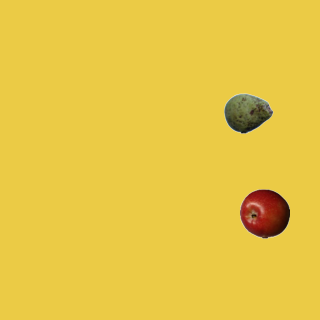Apple Braeburn: (239, 188, 289, 238)
Pear Stone: (223, 88, 273, 138)
